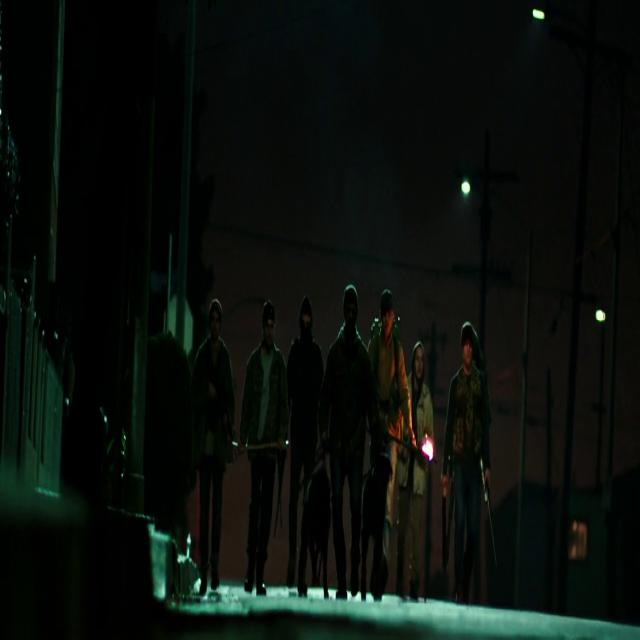People: (133, 266, 206, 591), (240, 255, 293, 560), (327, 291, 376, 578), (446, 236, 488, 553), (198, 266, 245, 544), (364, 294, 410, 554), (409, 300, 439, 553), (283, 277, 322, 465)
dog: (278, 406, 338, 598)
